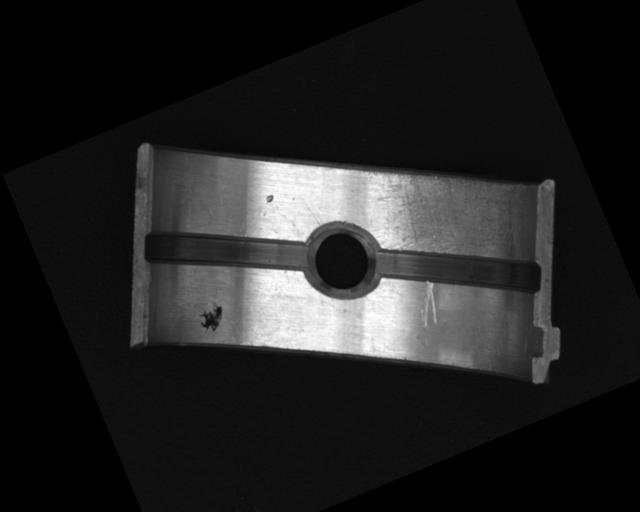blot: (193, 299, 231, 337)
bruise: (264, 193, 275, 204)
gap: (369, 194, 553, 348), (133, 179, 314, 325)
hole: (299, 214, 387, 303)
nick: (406, 279, 450, 332)
scratch: (357, 121, 552, 304)
